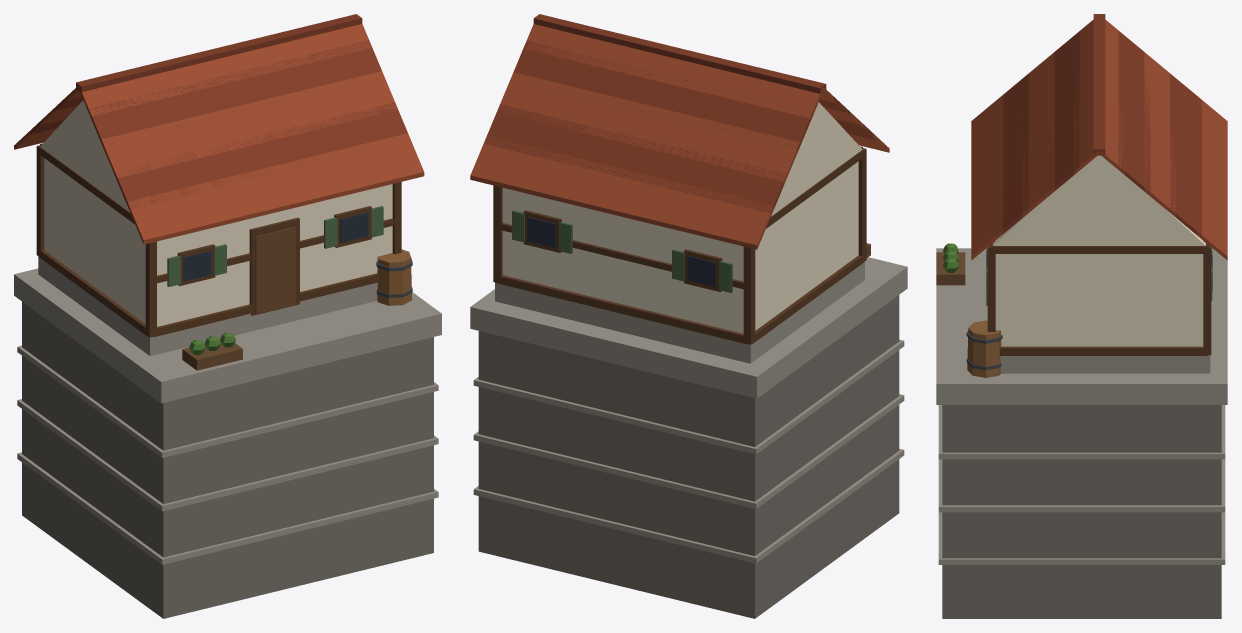
The model's file is house_3.glb.
3 renders of one model, left to right at view 1: azimuth 30°, elevation 25°; view 2: azimuth 150°, elevation 25°; view 3: azimuth 270°, elevation 25°, orthographic. The views are drawn at different scales.
Visible parts, largest first — view 1: house_3; view 2: house_3; view 3: house_3.
Boxes of the visible parts, <box> form: house_3: <box>14,14,441,618</box>; house_3: <box>470,14,907,618</box>; house_3: <box>936,14,1227,618</box>.
Bounding box in the file's own units: 5.5 × 8.94 × 5.
